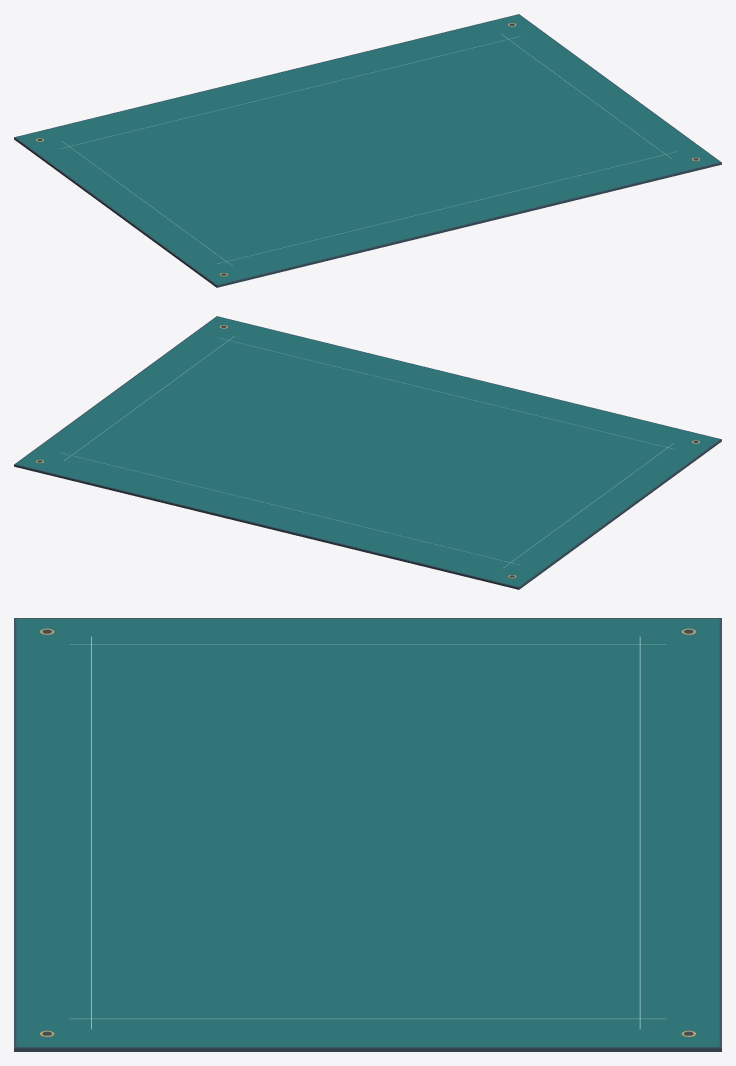
File: 221_L117_PCB_Main.glb
3 views of the same model, one above another, from view 1: azimuth 30°, elevation 25°; view 2: azimuth 150°, elevation 25°; view 3: azimuth 270°, elevation 25° (orthographic). The views are drawn at different scales.
Visible parts, largest first — view 1: 001_Mask_Teal__PSMAT__Mask_Teal, 000_PCB_Midnight__PSMAT__PCB_Midnight; view 2: 001_Mask_Teal__PSMAT__Mask_Teal, 000_PCB_Midnight__PSMAT__PCB_Midnight; view 3: 001_Mask_Teal__PSMAT__Mask_Teal, 000_PCB_Midnight__PSMAT__PCB_Midnight, 013_Silkscreen_Cyan__PSMAT__Silkscreen_Cyan, 010_Silkscreen_Cyan__PSMAT__Silkscreen_Cyan.
Boxes of the visible parts, x1,y1,x2,y2 form: 001_Mask_Teal__PSMAT__Mask_Teal: (16,15,719,284); 000_PCB_Midnight__PSMAT__PCB_Midnight: (14,14,721,287); 001_Mask_Teal__PSMAT__Mask_Teal: (16,317,719,586); 000_PCB_Midnight__PSMAT__PCB_Midnight: (14,316,721,589); 001_Mask_Teal__PSMAT__Mask_Teal: (16,619,719,1047); 000_PCB_Midnight__PSMAT__PCB_Midnight: (14,618,721,1051); 013_Silkscreen_Cyan__PSMAT__Silkscreen_Cyan: (69,1018,666,1019); 010_Silkscreen_Cyan__PSMAT__Silkscreen_Cyan: (639,636,640,1029).
Bounding box in the file's own units: 0.46 × 0.00212 × 0.32.
